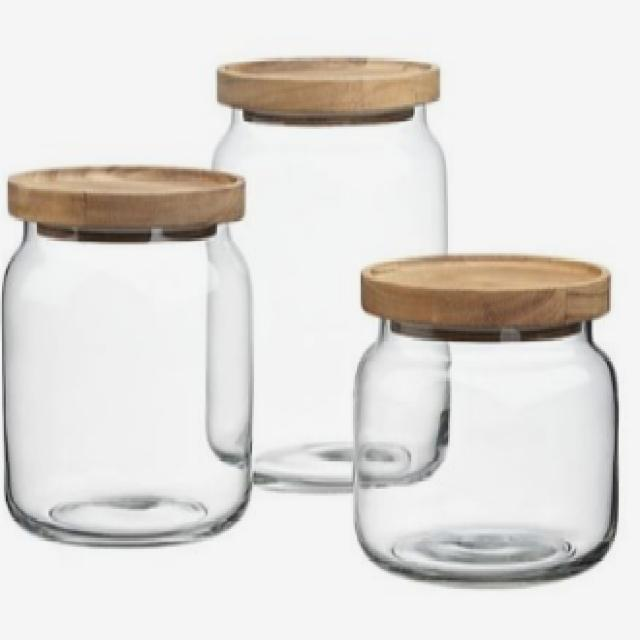ToplesKaca: (0, 51, 611, 582)
